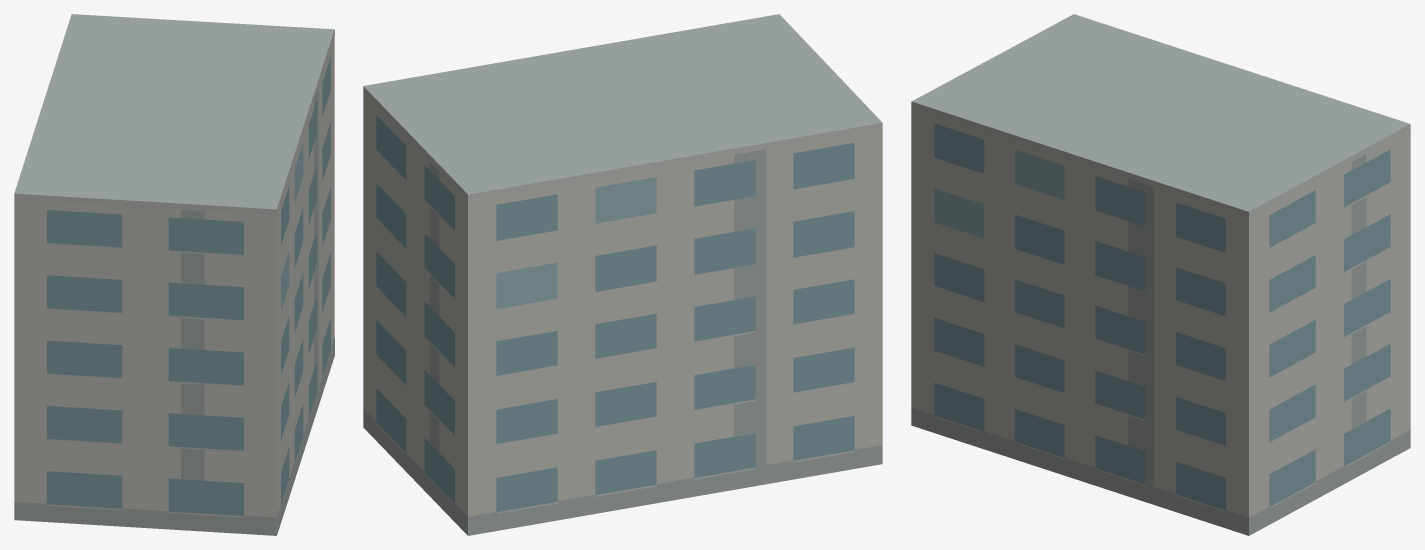
The model's file is survey-upis-33030948.glb.
3 views of the same model, side by side, from view 1: azimuth 30°, elevation 25°; view 2: azimuth 150°, elevation 25°; view 3: azimuth 270°, elevation 25° (orthographic). The views are drawn at different scales.
Parts seen in each view (by area): view 1: survey-upis-33030948.tmp; view 2: survey-upis-33030948.tmp; view 3: survey-upis-33030948.tmp.
Boxes of the visible parts, left/top/right/bottom form: survey-upis-33030948.tmp: left=14, top=14, right=334, bottom=535; survey-upis-33030948.tmp: left=363, top=14, right=882, bottom=535; survey-upis-33030948.tmp: left=911, top=14, right=1410, bottom=535.
Bounding box in the file's own units: 16.97 × 12.95 × 18.09.
